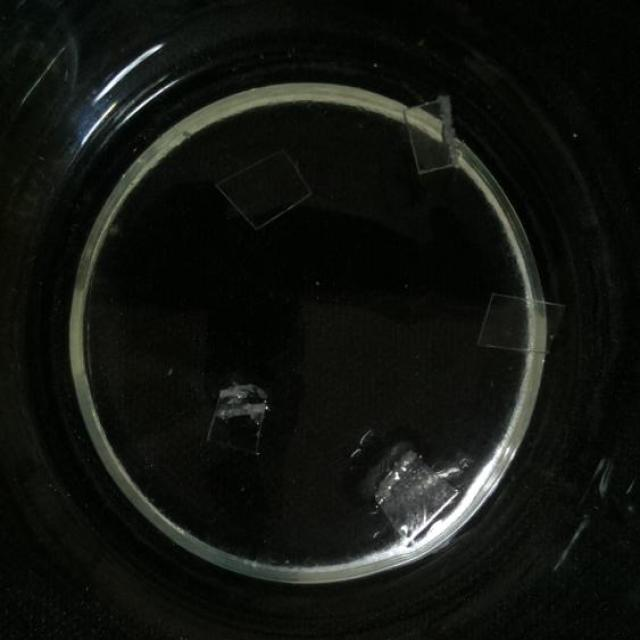fiber: (374, 452, 461, 549), (218, 144, 310, 232), (469, 288, 562, 356), (399, 97, 459, 174), (210, 382, 273, 454), (552, 510, 612, 584), (591, 448, 638, 513)
